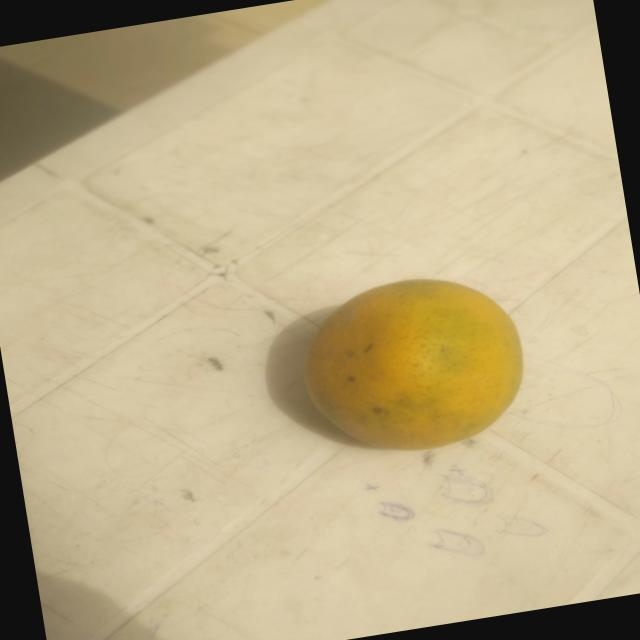agrume: (271, 232, 553, 500)
